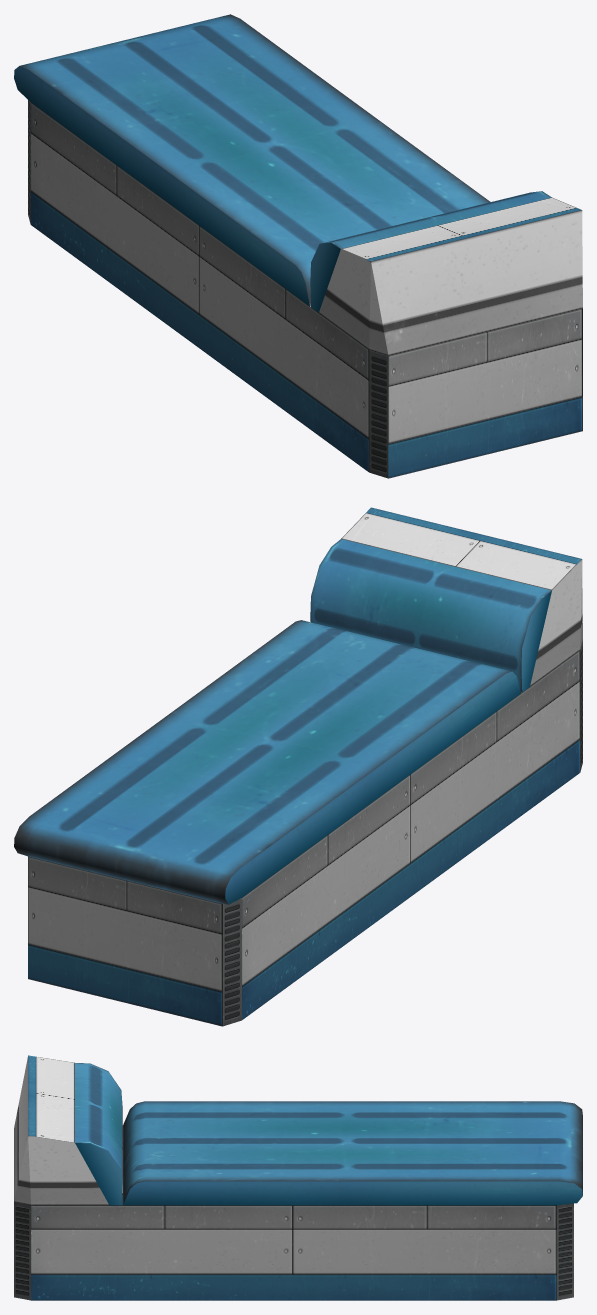
Rendered from Bed_01.FBX.
The picture shows the model from 3 angles, top to bottom: view 1: azimuth 30°, elevation 25°; view 2: azimuth 150°, elevation 25°; view 3: azimuth 270°, elevation 25°; orthographic projection. The views are drawn at different scales.
Visible parts, largest first — view 1: Bed_01; view 2: Bed_01; view 3: Bed_01.
Boxes of the visible parts, left/top/right/bottom form: Bed_01: left=14, top=14, right=582, bottom=478; Bed_01: left=14, top=507, right=582, bottom=1026; Bed_01: left=14, top=1055, right=582, bottom=1300.
Bounding box in the file's own units: 30.48 × 29.31 × 91.55.
